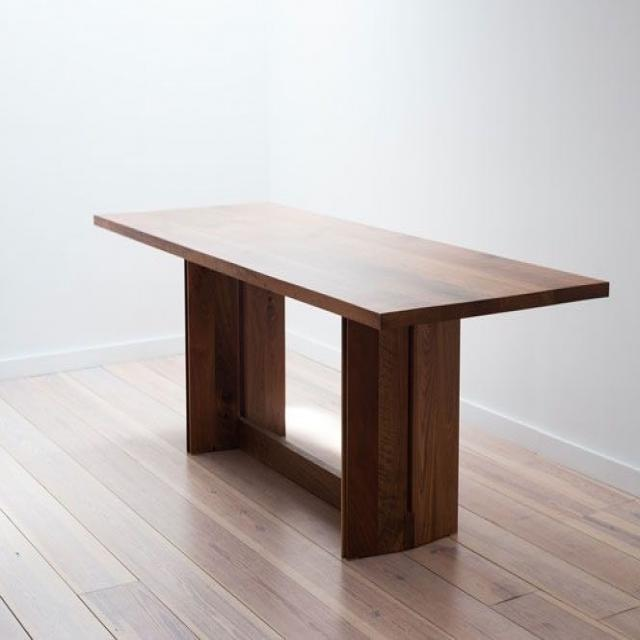table: (86, 176, 617, 569)
